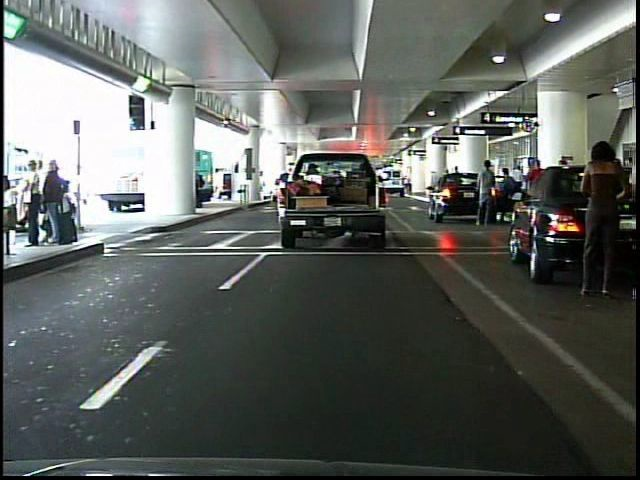person: (574, 134, 625, 302), (469, 154, 501, 232)
